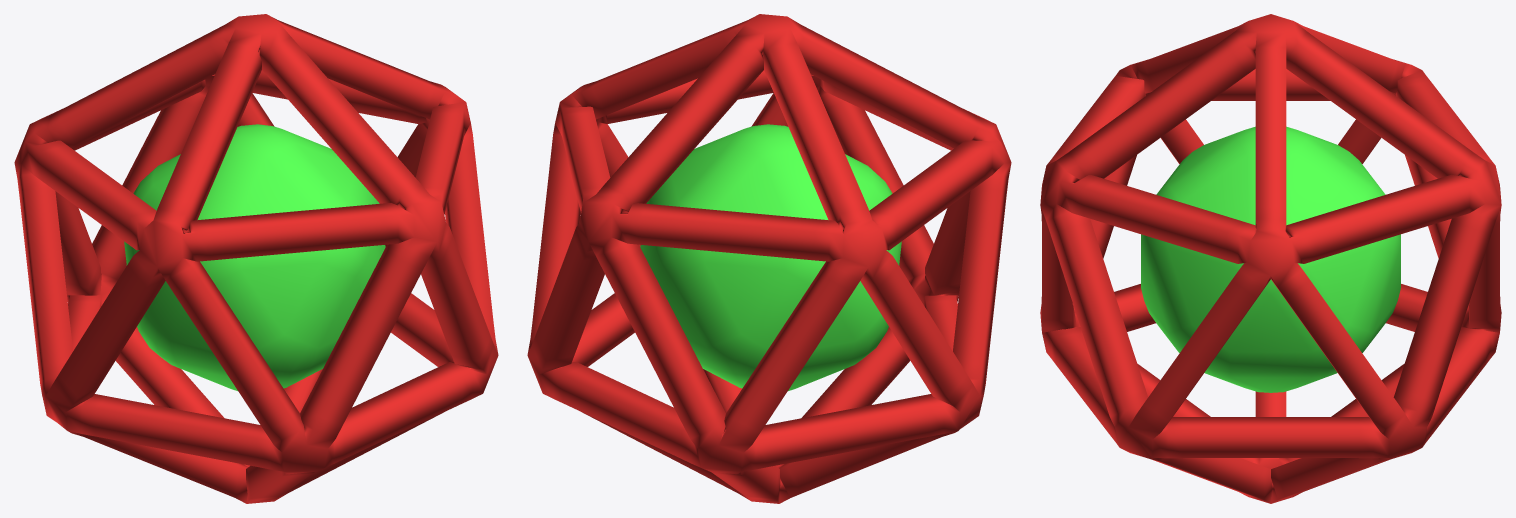
The model's file is Abstract_A.fbx.
3 views of the same model, side by side, from view 1: azimuth 30°, elevation 25°; view 2: azimuth 150°, elevation 25°; view 3: azimuth 270°, elevation 25° (orthographic).
Visible parts, largest first — view 1: Icosphere, Icosphere.001; view 2: Icosphere, Icosphere.001; view 3: Icosphere, Icosphere.001.
Part boxes in pixels (bbox=[...]): Icosphere: bbox=[14, 14, 498, 503]; Icosphere.001: bbox=[124, 124, 385, 390]; Icosphere: bbox=[527, 14, 1011, 503]; Icosphere.001: bbox=[640, 124, 901, 390]; Icosphere: bbox=[1040, 14, 1501, 503]; Icosphere.001: bbox=[1141, 126, 1400, 392].
Bounding box in the file's own units: 193 × 206 × 184.
